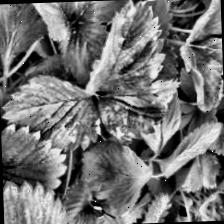Powdery Mildew Leaf: (0, 72, 103, 154), (81, 0, 167, 96), (96, 78, 183, 142)
